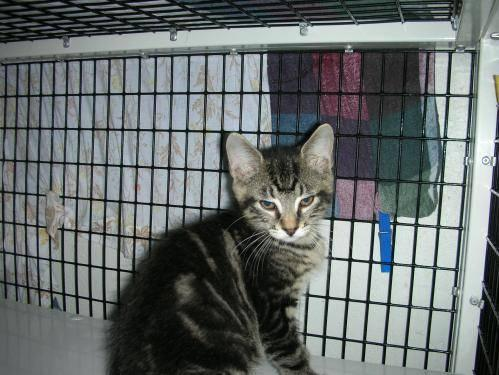cat: (106, 123, 334, 374)
